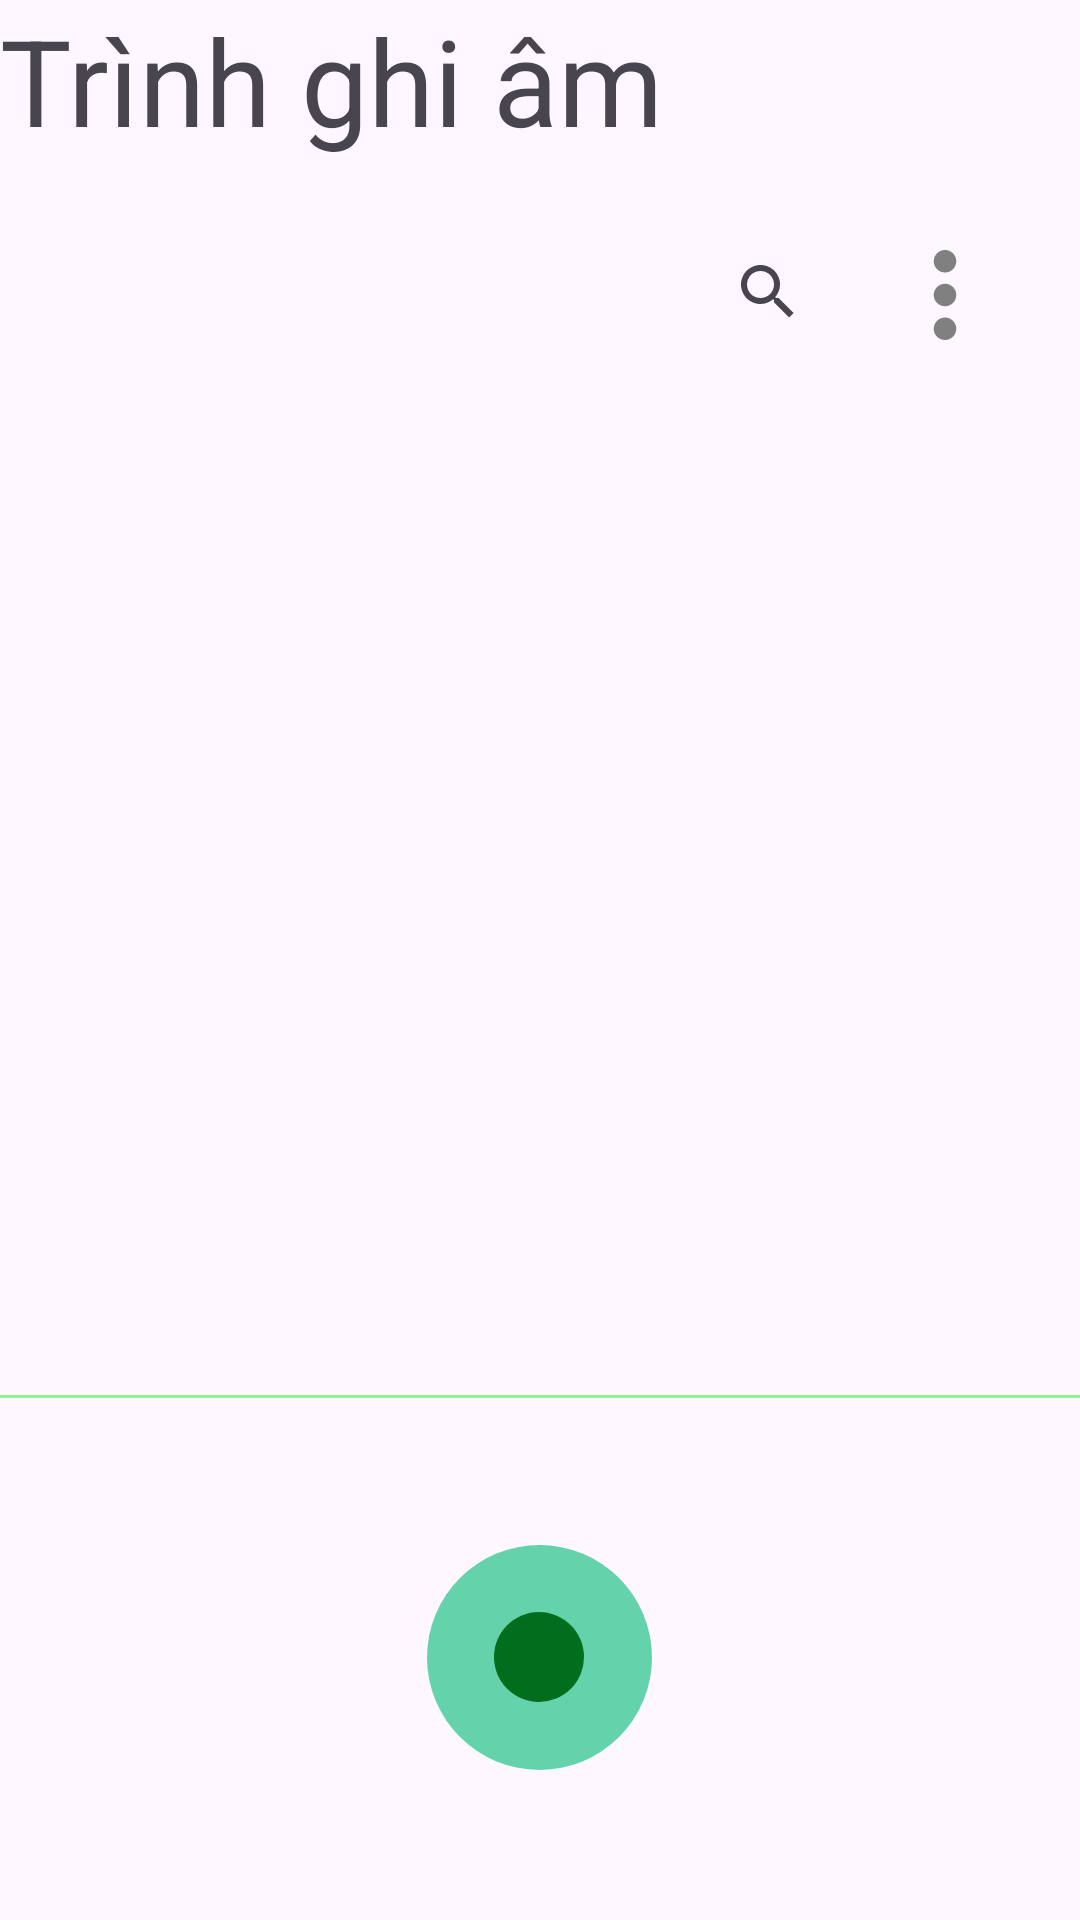

Locate icon controls on the screen. Image size 1080 × 1920, boxes as bbox(x1, y1, x2, y2).
record: bbox(427, 1545, 652, 1770)
